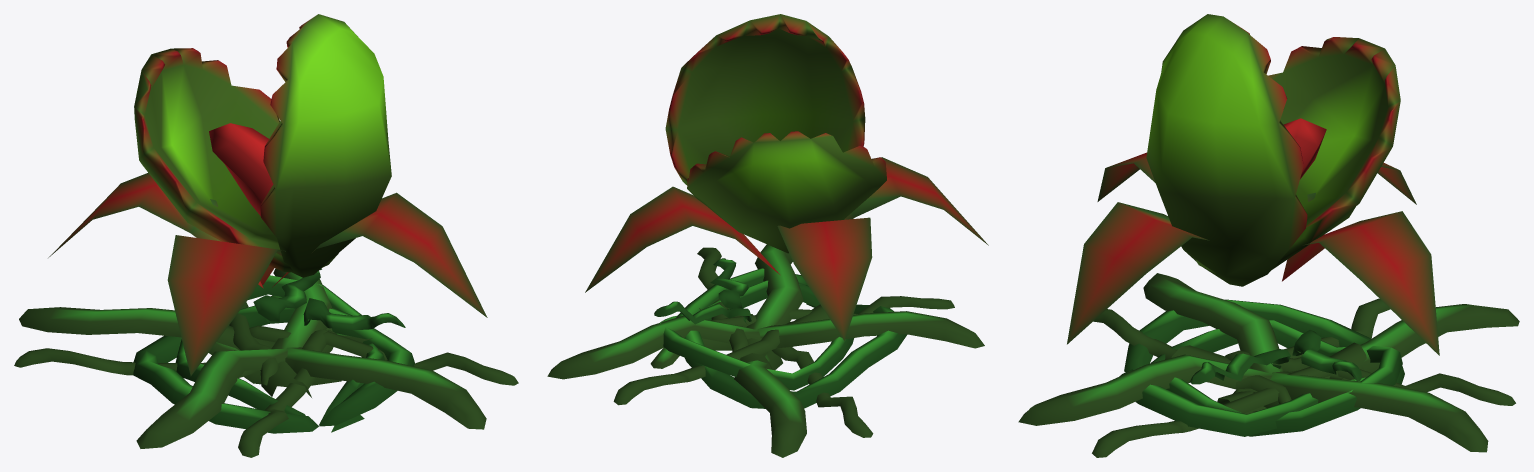
Rendered from radio01.fbx.
The picture shows the model from 3 angles, left to right: view 1: azimuth 30°, elevation 25°; view 2: azimuth 150°, elevation 25°; view 3: azimuth 270°, elevation 25°; orthographic projection. The views are drawn at different scales.
Visible parts, largest first — view 1: pCube152; view 2: pCube152; view 3: pCube152.
Part boxes in pixels (bbox=[...]): pCube152: bbox=[14, 14, 518, 457]; pCube152: bbox=[547, 14, 988, 457]; pCube152: bbox=[1018, 14, 1519, 457].
Bounding box in the file's own units: 259 × 263 × 309.
